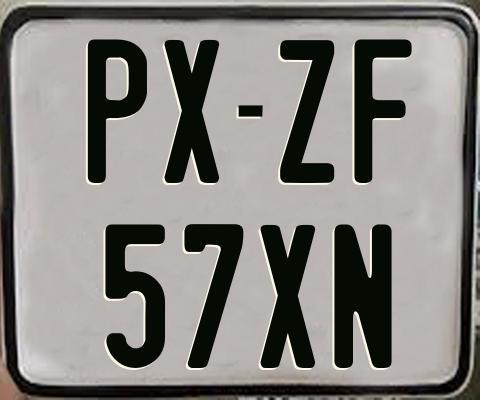5: (105, 222, 170, 366)
7: (182, 224, 243, 372)
F: (352, 37, 413, 183)
N: (334, 222, 396, 367)
P: (87, 39, 146, 183)
X: (261, 223, 321, 368), (163, 40, 218, 183)
Z: (280, 37, 337, 184)
